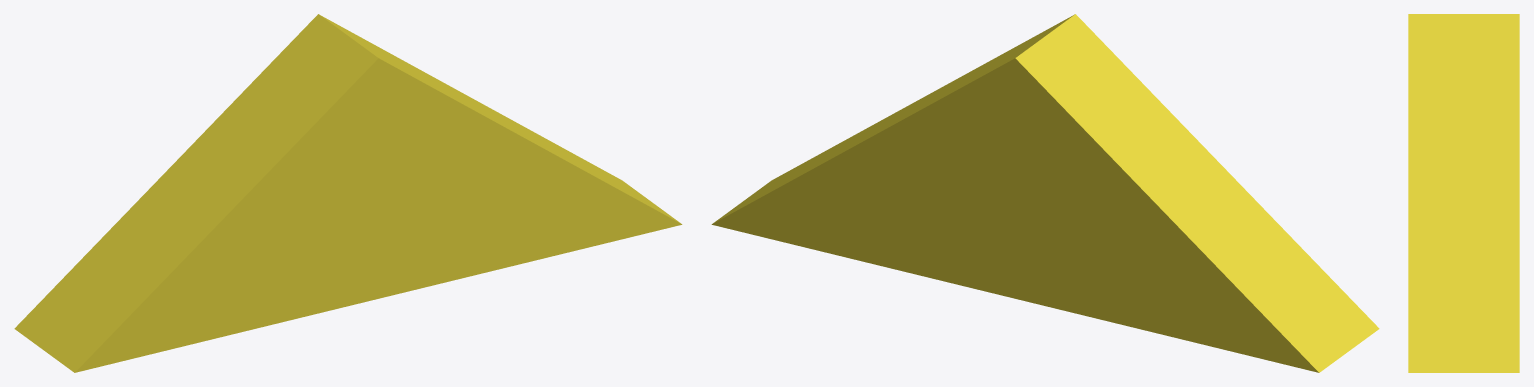
The model's file is EncaixeTelha+Janela.fbx.
The picture shows the model from 3 angles, left to right: view 1: azimuth 30°, elevation 25°; view 2: azimuth 150°, elevation 25°; view 3: azimuth 270°, elevation 25°; orthographic projection. The views are drawn at different scales.
Visible parts, largest first — view 1: EncaixeTelha+Janela; view 2: EncaixeTelha+Janela; view 3: EncaixeTelha+Janela.
Part boxes in pixels (bbox=[...]): EncaixeTelha+Janela: bbox=[14, 14, 682, 372]; EncaixeTelha+Janela: bbox=[711, 14, 1379, 372]; EncaixeTelha+Janela: bbox=[1408, 14, 1519, 372].
Size of the model in its own units: 994 by 376 by 171.
